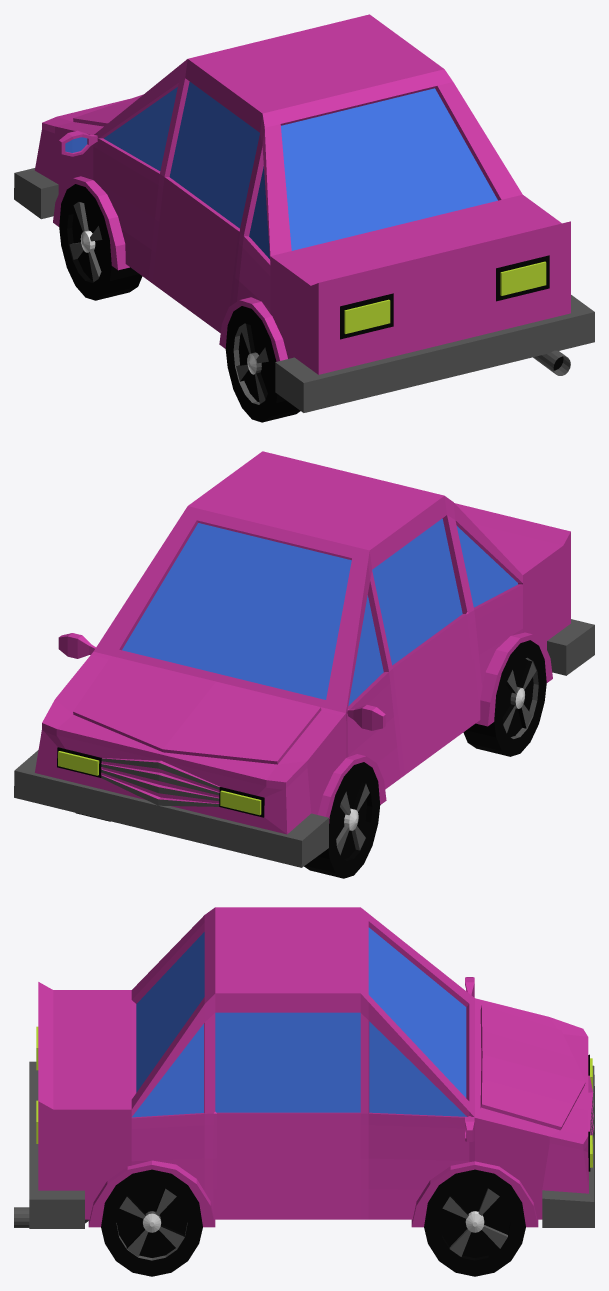
File: carPink.glb
3 renders of one model, top to bottom at view 1: azimuth 30°, elevation 25°; view 2: azimuth 150°, elevation 25°; view 3: azimuth 270°, elevation 25°, orthographic. The views are drawn at different scales.
Visible parts, largest first — view 1: Car8; view 2: Car8; view 3: Car8.
Part boxes in pixels (bbox=[...]): Car8: bbox=[14, 14, 594, 422]; Car8: bbox=[14, 451, 594, 878]; Car8: bbox=[14, 907, 594, 1276].
Size of the model in its own units: 10 by 8 by 16.
